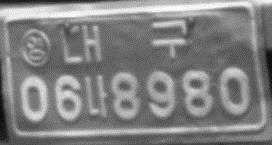0: (218, 66, 252, 117), (20, 74, 49, 122)
6: (53, 73, 83, 122)
8: (180, 69, 214, 118), (110, 71, 141, 120)
9: (145, 71, 178, 120)
나: (84, 73, 108, 122)
대구_D: (59, 17, 193, 65)
영: (20, 27, 53, 69)
